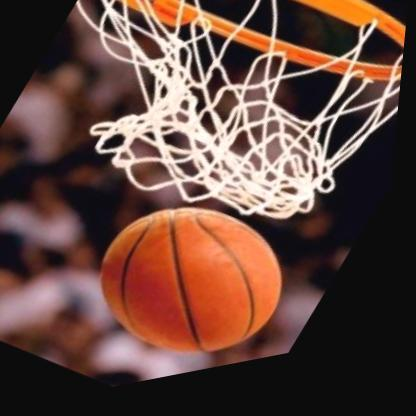basketball: (67, 158, 331, 401)
